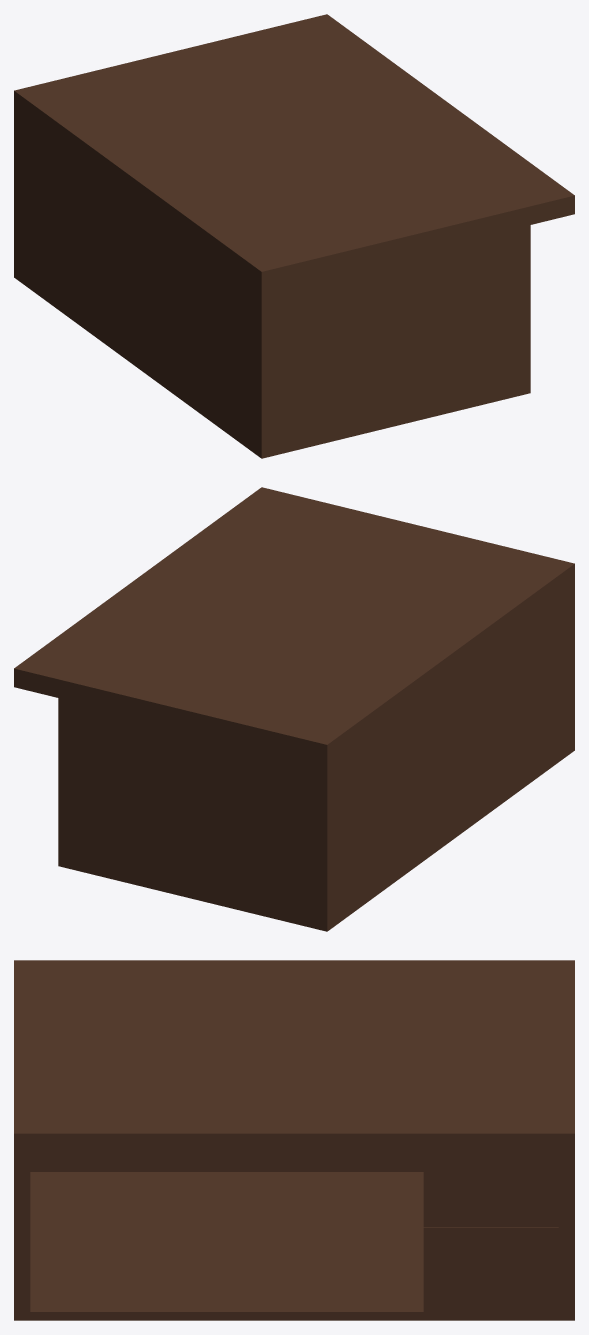
File: desk_human_lab.fbx
The picture shows the model from 3 angles, top to bottom: view 1: azimuth 30°, elevation 25°; view 2: azimuth 150°, elevation 25°; view 3: azimuth 270°, elevation 25°; orthographic projection. The views are drawn at different scales.
Parts seen in each view (by area): view 1: Desk; view 2: Desk; view 3: Desk.
Boxes of the visible parts, <box> form: Desk: <box>14,14,574,458</box>; Desk: <box>14,487,574,931</box>; Desk: <box>14,960,574,1320</box>.
Bounding box in the file's own units: 304 × 173 × 417.
